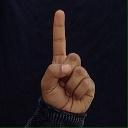hand: (40, 8, 95, 114)
